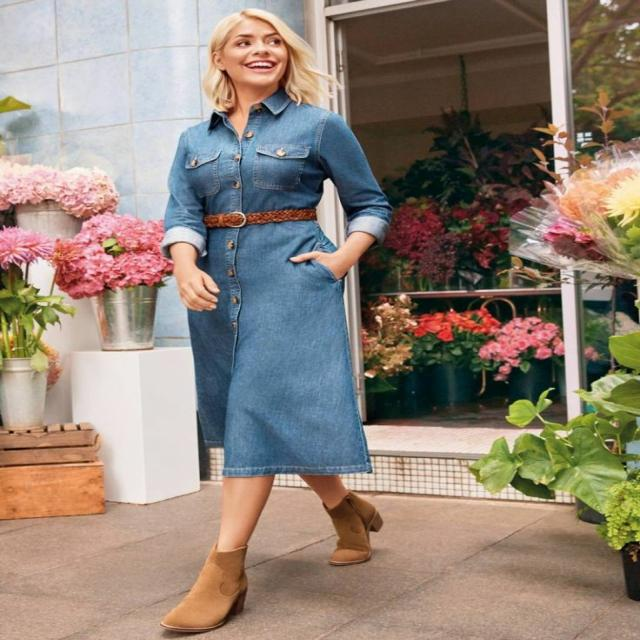female-dress: (160, 110, 412, 501)
